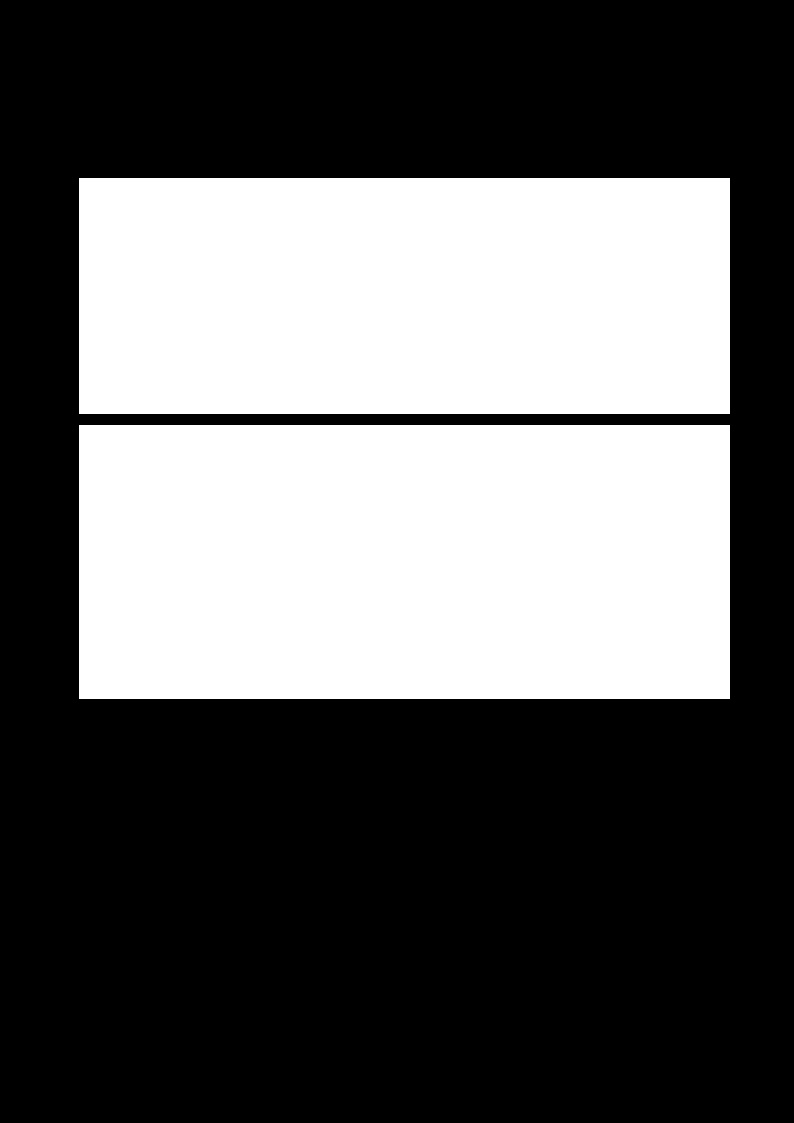table: (79, 425, 729, 698), (79, 178, 729, 413)
